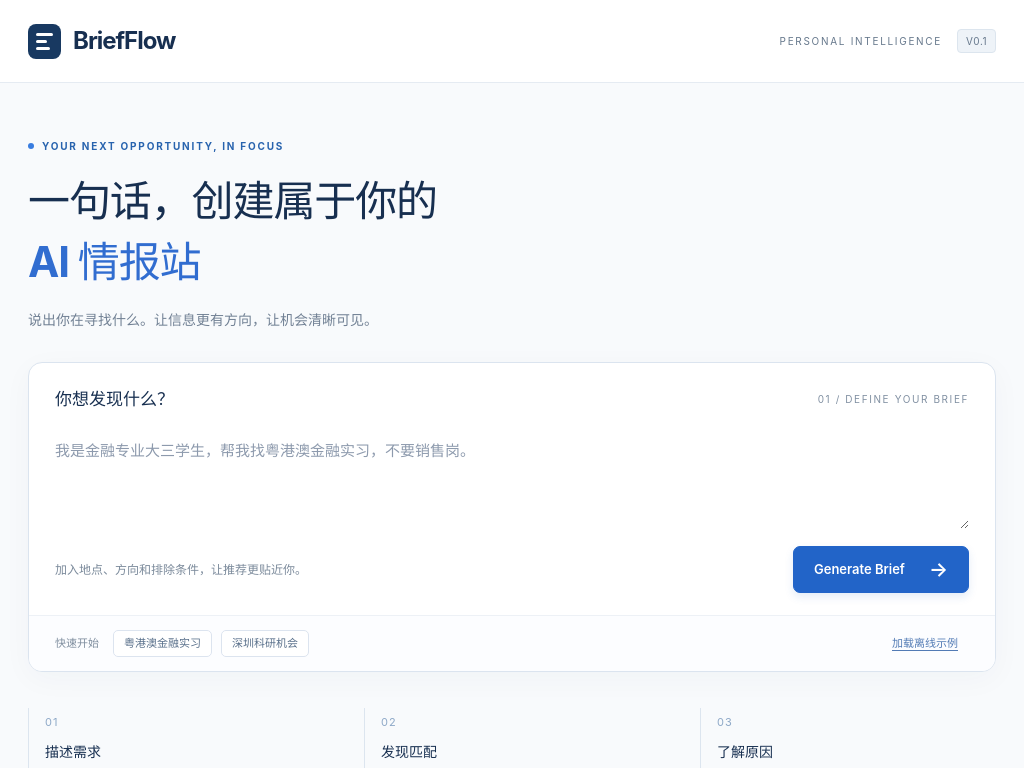
Test: Web MVP › shows a clear server error instead of silently substituting demo data
The image size is (1024, 768).
What coordinates should you click on to do the following:
click the button "粤港澳金融实习"
I would click on:
 (162, 643)
Its box is [113,630,212,657].
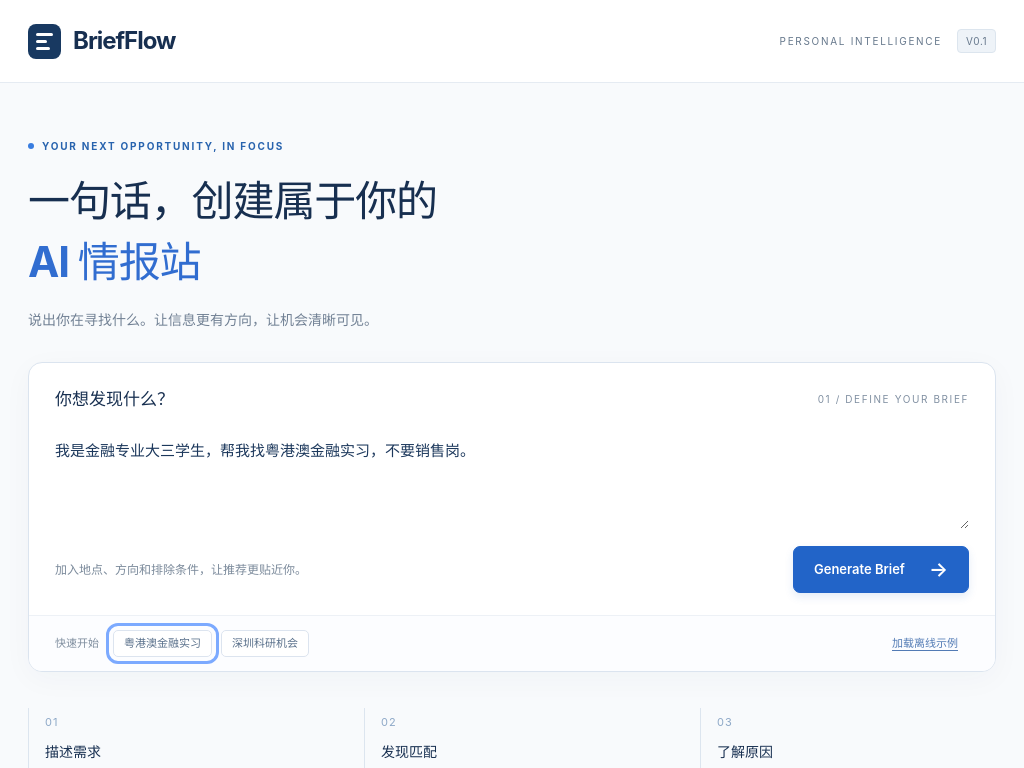
What coordinates should you click on to do the following:
click the button "Generate Brief →"
I would click on:
 (881, 569)
Its box is [793,546,969,593].
(page scrolled)
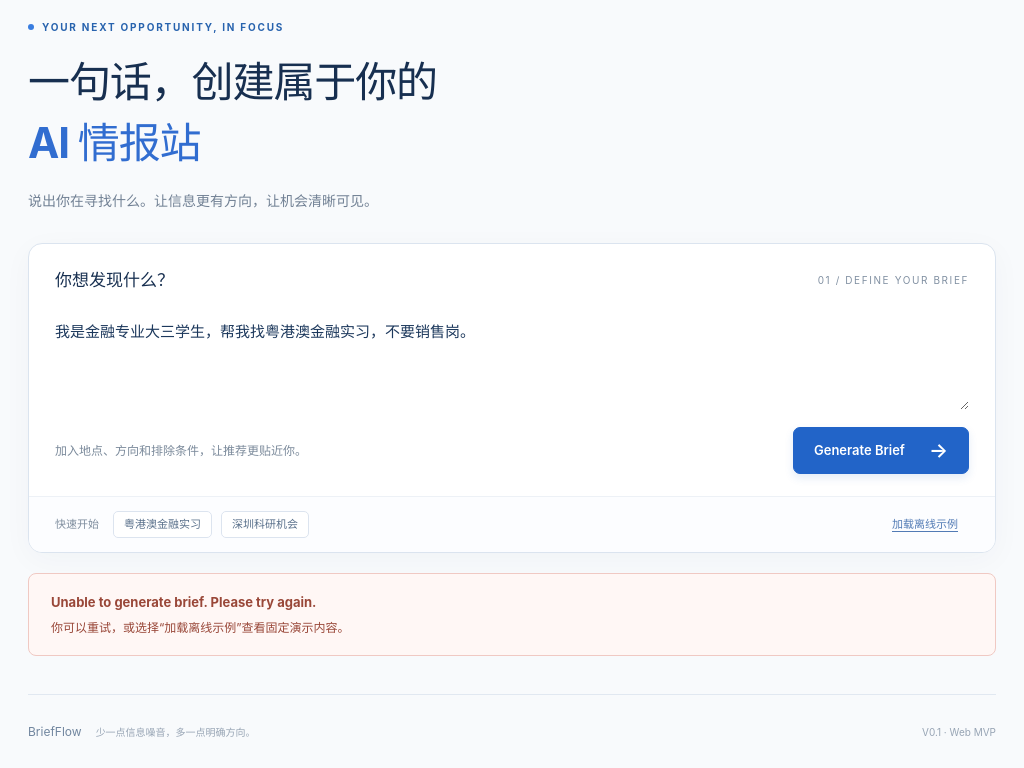
Expected: the message shows "Unable to generate brief. Please try again.", [51,594,316,610]
